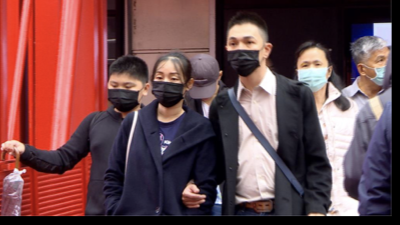with_mask: (226, 34, 263, 78), (151, 70, 184, 109), (107, 79, 141, 113), (295, 59, 327, 93), (370, 52, 390, 87)
